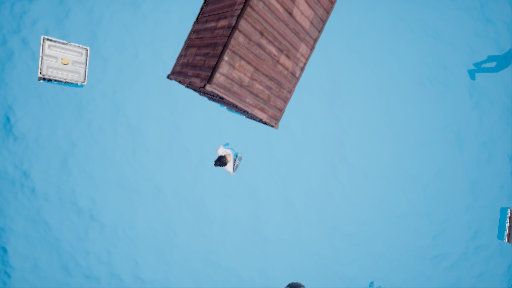person: (202, 140, 249, 182)
